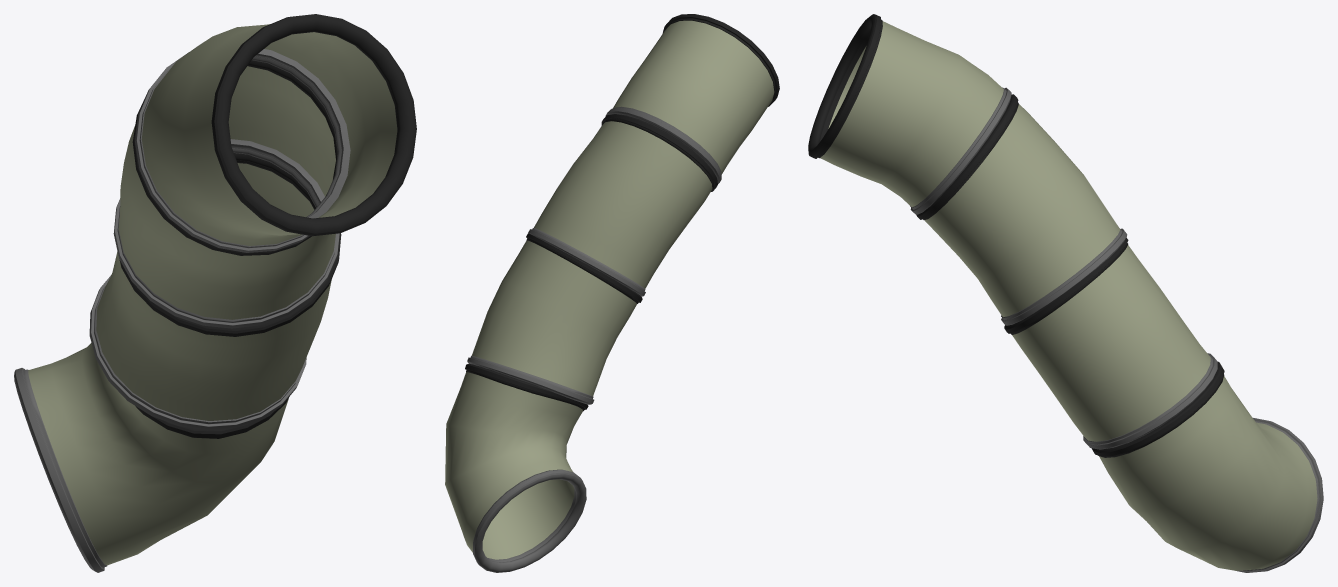
The model's file is SM_Tunnel_03.fbx.
3 renders of one model, left to right at view 1: azimuth 30°, elevation 25°; view 2: azimuth 150°, elevation 25°; view 3: azimuth 270°, elevation 25°, orthographic. The views are drawn at different scales.
Visible parts, largest first — view 1: Cylinder.007; view 2: Cylinder.007; view 3: Cylinder.007.
Part boxes in pixels (bbox=[...]): Cylinder.007: bbox=[14, 14, 416, 572]; Cylinder.007: bbox=[445, 14, 779, 572]; Cylinder.007: bbox=[808, 14, 1323, 572].
Size of the model in its own units: 728 by 1750 by 1547.
